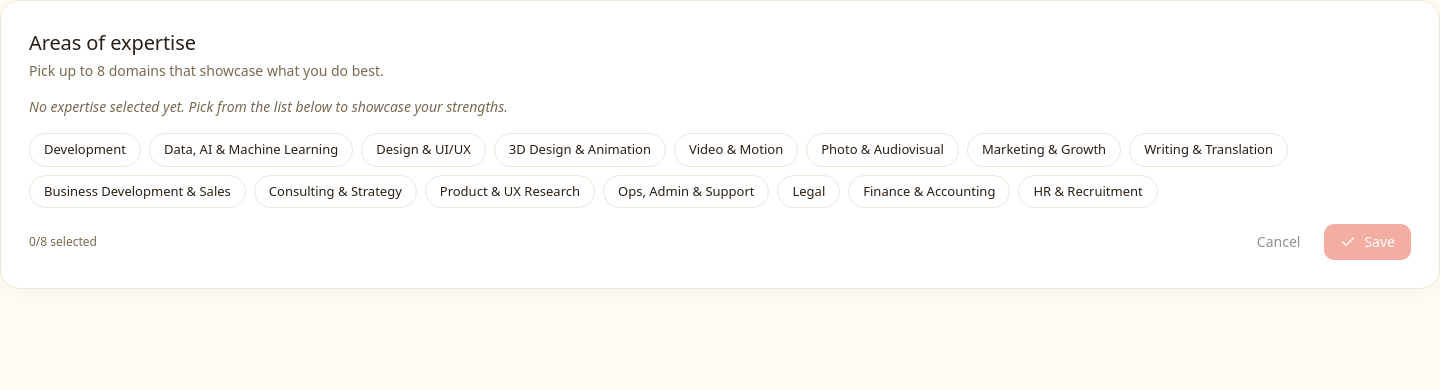
Test case: ExpertiseEditor › maps a 403 response to the forbidden error message
Click the button "Development". click: {"x": 85, "y": 150}
box: [29,133,141,166]
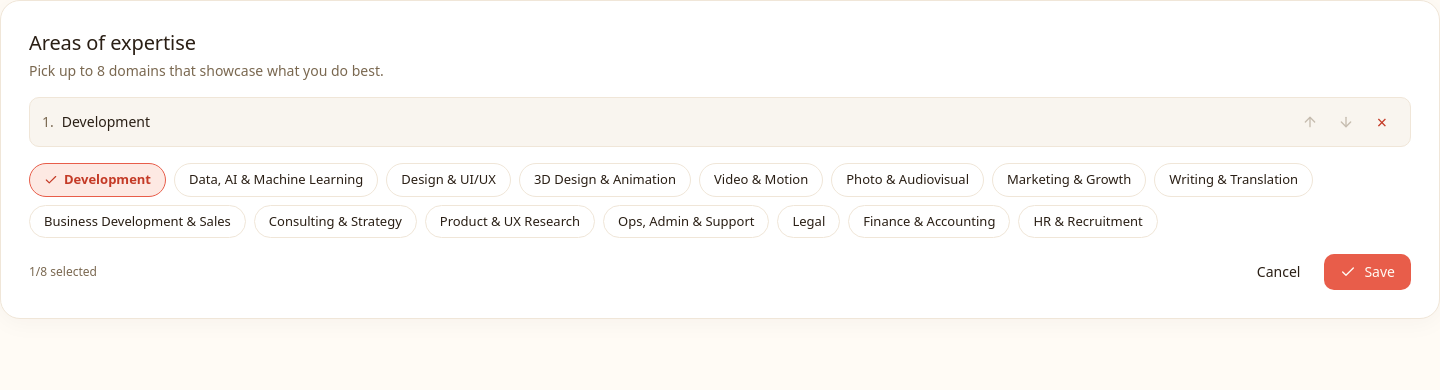
Click the button "Save". click: {"x": 1368, "y": 272}
box: [1324,254,1411,290]
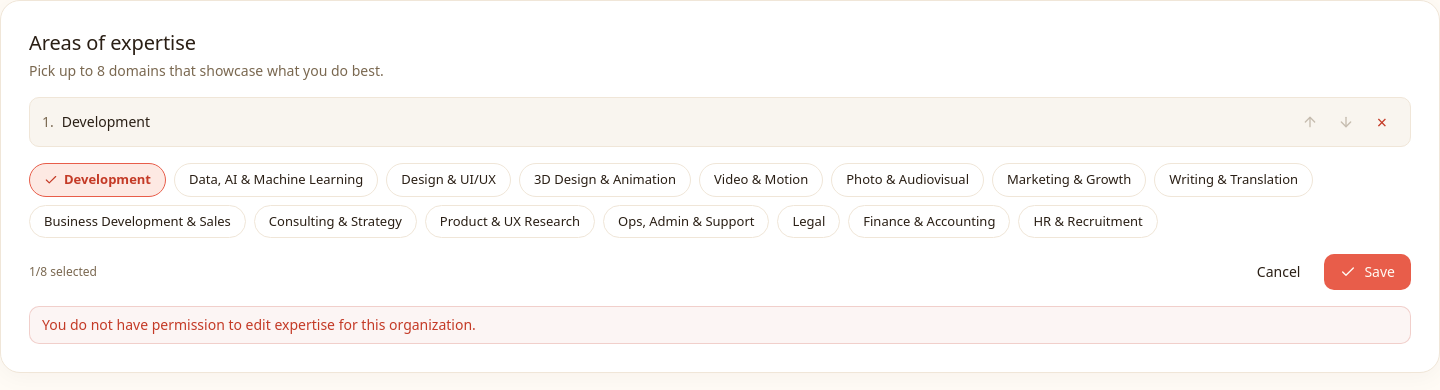
Check: the message shows "permission", box [42,315,476,334]
